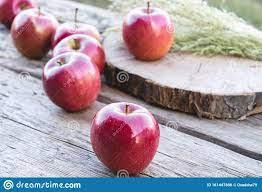Apple: (91, 102, 160, 176), (42, 51, 101, 112), (122, 6, 174, 60), (53, 34, 106, 81), (11, 9, 58, 60), (54, 22, 101, 66), (0, 0, 35, 31)
